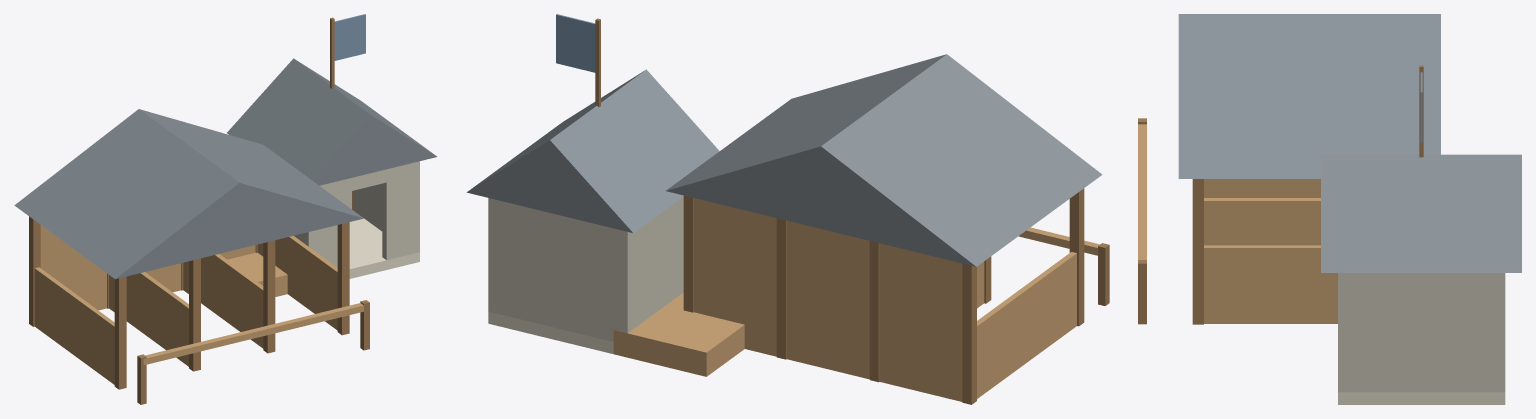
The model's file is cavalry-stables-upgrade.glb.
3 views of the same model, side by side, from view 1: azimuth 30°, elevation 25°; view 2: azimuth 150°, elevation 25°; view 3: azimuth 270°, elevation 25° (orthographic). The views are drawn at different scales.
Visible parts, largest first — view 1: cavalry-stables-upgraded; view 2: cavalry-stables-upgraded; view 3: cavalry-stables-upgraded.
Boxes of the visible parts, x1=… form: cavalry-stables-upgraded: x1=14, y1=14, x2=437, y2=404; cavalry-stables-upgraded: x1=466, y1=14, x2=1109, y2=404; cavalry-stables-upgraded: x1=1138, y1=14, x2=1521, y2=404.
Size of the model in its own units: 10.15 by 6 by 6.88.
